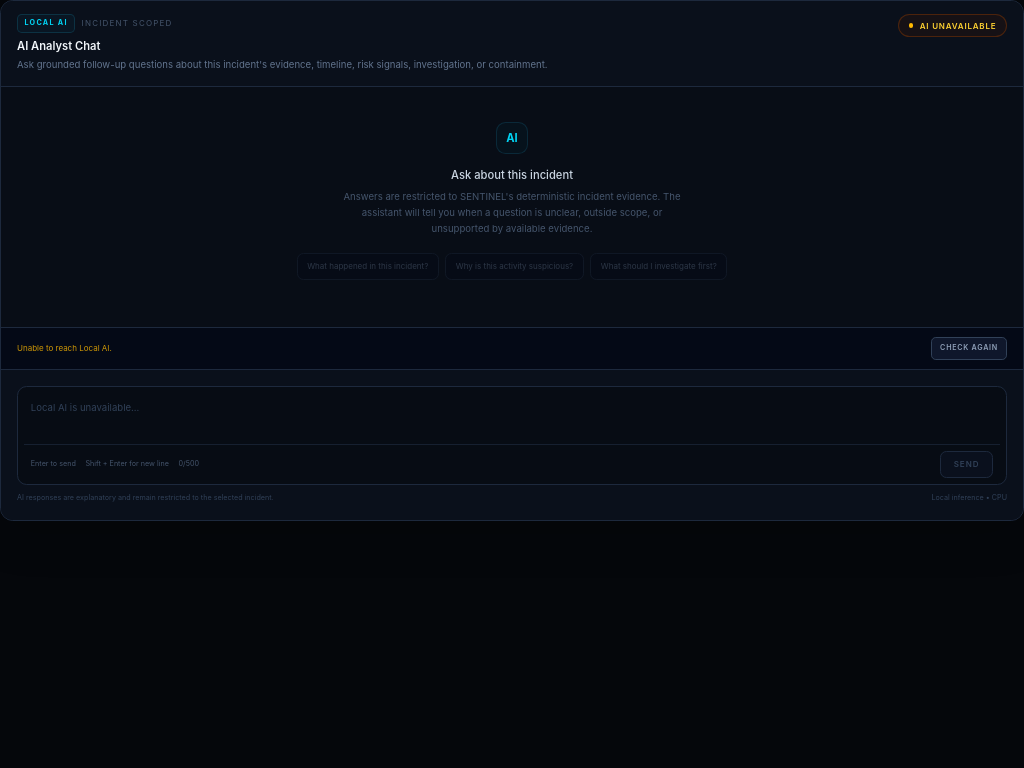
Test case: AIAnalystChat › recovers after an AI status request failure
The image size is (1024, 768).
Check: the text "Unable to reach Local AI." is shown, box x1=17 y1=342 x2=112 y2=355
What coordinates should you click on to do the following:
click the button "Check Again"
I would click on:
 (969, 348)
Its box is x1=931 y1=337 x2=1007 y2=360.
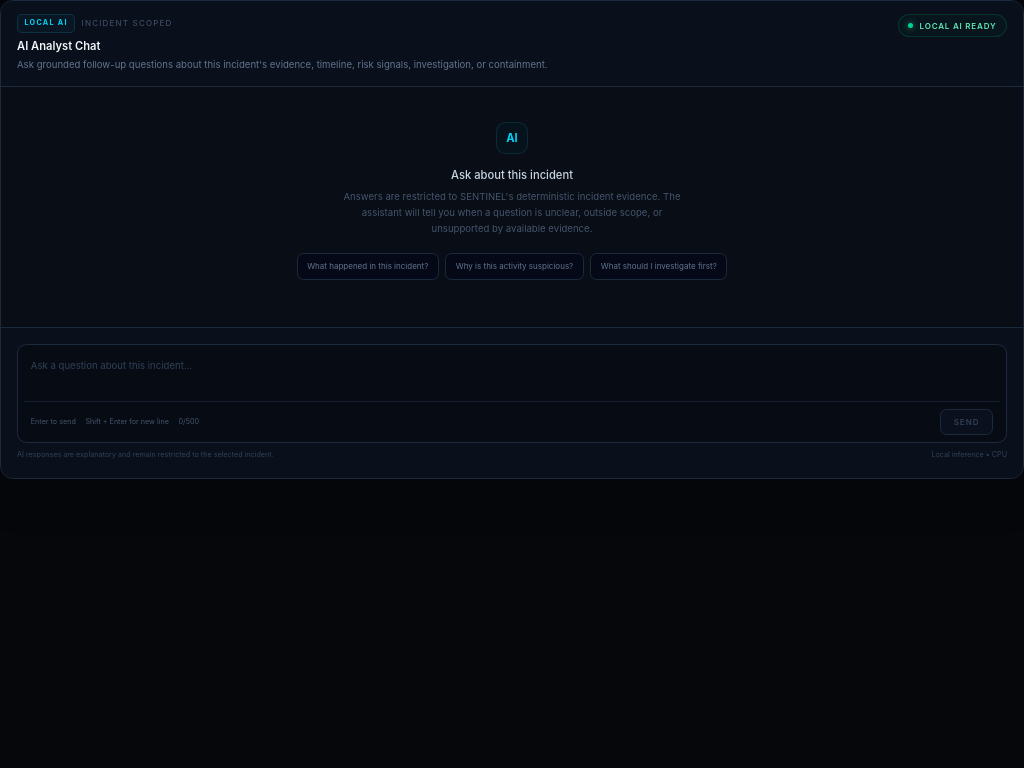
Check: the text box with placeholder "Ask a question about this incident..." is enabled, box x1=24 y1=351 x2=1000 y2=396
